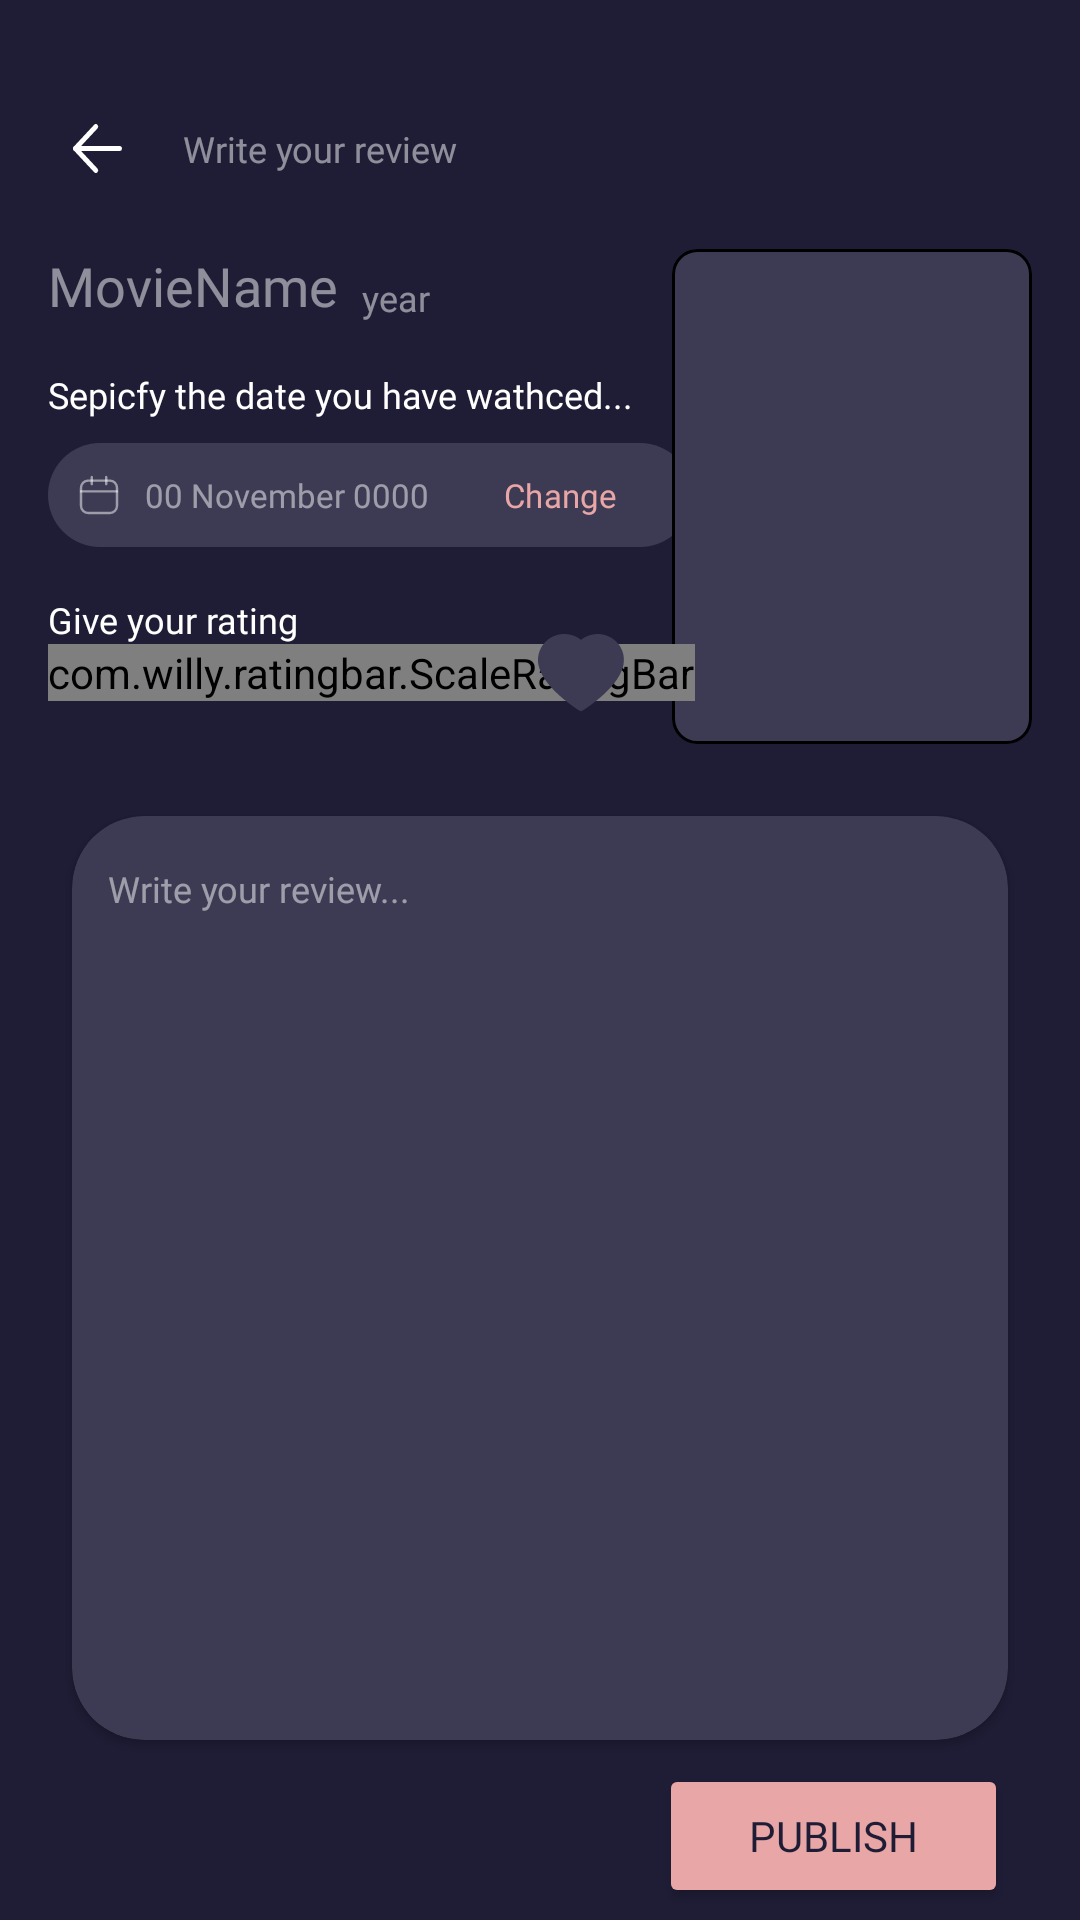

Point at icon controls on the screen. Image size 1080*1920, points as point (x, y).
backwardthesecond: point (97, 148)
calendar: point (99, 495)
savelike: point (581, 672)
